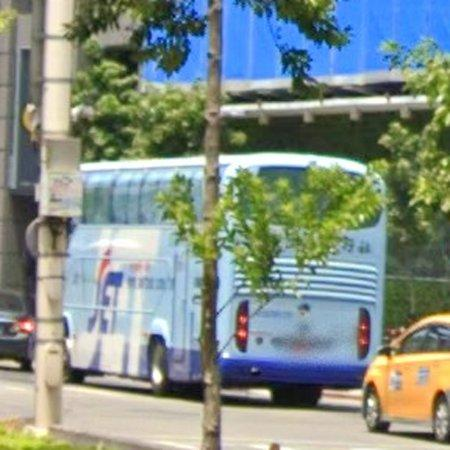taxis: (364, 315, 450, 441)
